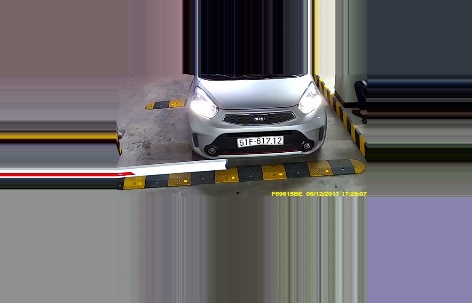plate: (235, 134, 289, 150)
